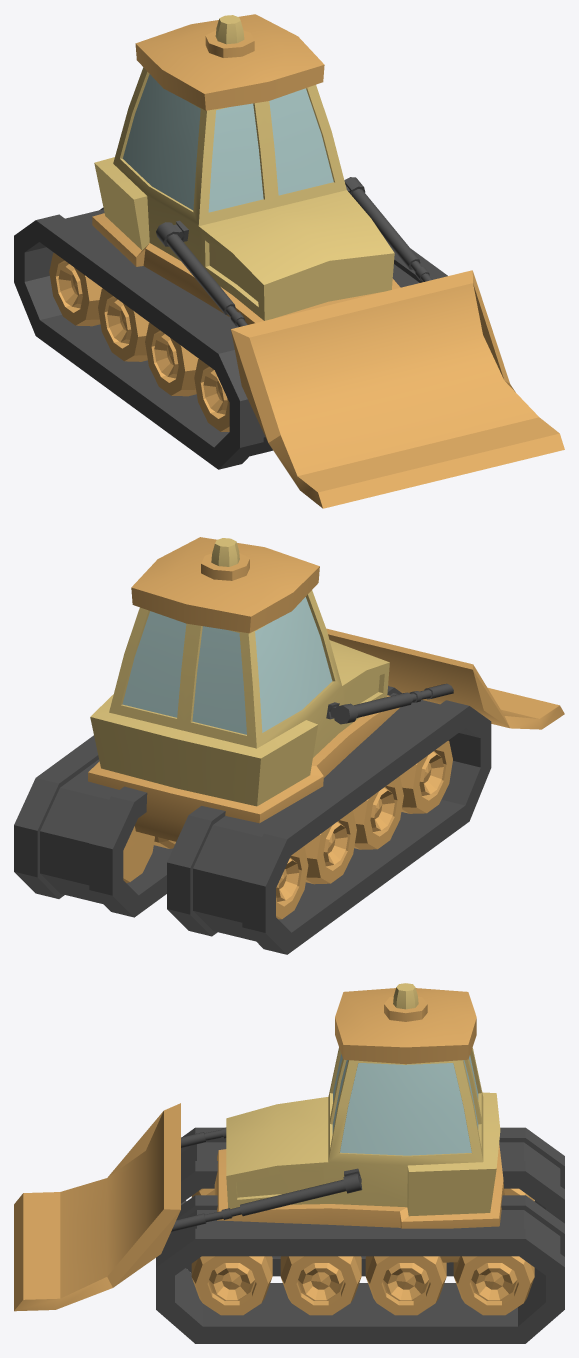
File: Topadora.fbx
3 views of the same model, one above another, from view 1: azimuth 30°, elevation 25°; view 2: azimuth 150°, elevation 25°; view 3: azimuth 270°, elevation 25° (orthographic). The views are drawn at different scales.
Parts seen in each view (by area): view 1: Topadora_Frente, Topadora_Forma, Topadora_Coso_Rueda, Topadora_Techo, polySurface2, Topadora_Rueda, polySurface1, Topadora_Soporte_Frente, Topadora_Sirena; view 2: Topadora_Coso_Rueda, Topadora_Forma, Topadora_Techo, Topadora_Rueda, polySurface2, Topadora_Frente, polySurface1, Topadora_Soporte_Frente, Topadora_Sirena; view 3: Topadora_Coso_Rueda, Topadora_Forma, Topadora_Frente, Topadora_Rueda, polySurface3, Topadora_Techo, Topadora_Soporte_Frente, Topadora_Sirena, polySurface2.
Part boxes in pixels (bbox=[...]): Topadora_Frente: bbox=[231, 270, 564, 508]; Topadora_Forma: bbox=[92, 67, 400, 324]; Topadora_Coso_Rueda: bbox=[14, 207, 447, 469]; Topadora_Techo: bbox=[135, 14, 324, 110]; polySurface2: bbox=[208, 88, 333, 212]; Topadora_Rueda: bbox=[49, 253, 229, 431]; polySurface1: bbox=[122, 74, 200, 210]; Topadora_Soporte_Frente: bbox=[156, 177, 432, 327]; Topadora_Sirena: bbox=[205, 15, 254, 57]; Topadora_Coso_Rueda: bbox=[14, 686, 491, 954]; Topadora_Forma: bbox=[88, 590, 399, 841]; Topadora_Techo: bbox=[131, 537, 319, 633]; Topadora_Rueda: bbox=[123, 740, 452, 919]; polySurface2: bbox=[122, 611, 246, 734]; Topadora_Frente: bbox=[326, 628, 564, 729]; polySurface1: bbox=[255, 597, 332, 732]; Topadora_Soporte_Frente: bbox=[326, 683, 453, 724]; Topadora_Sirena: bbox=[201, 538, 249, 580]; Topadora_Coso_Rueda: bbox=[156, 1127, 564, 1343]; Topadora_Forma: bbox=[214, 1047, 504, 1262]; Topadora_Frente: bbox=[14, 1103, 180, 1311]; Topadora_Rueda: bbox=[191, 1188, 534, 1315]; polySurface3: bbox=[340, 1063, 471, 1155]; Topadora_Techo: bbox=[335, 988, 476, 1064]; Topadora_Soporte_Frente: bbox=[171, 1127, 362, 1231]; Topadora_Sirena: bbox=[384, 983, 427, 1021]; polySurface2: bbox=[332, 1054, 478, 1133].
Size of the model in its own units: 14.22 by 17.98 by 29.74.
